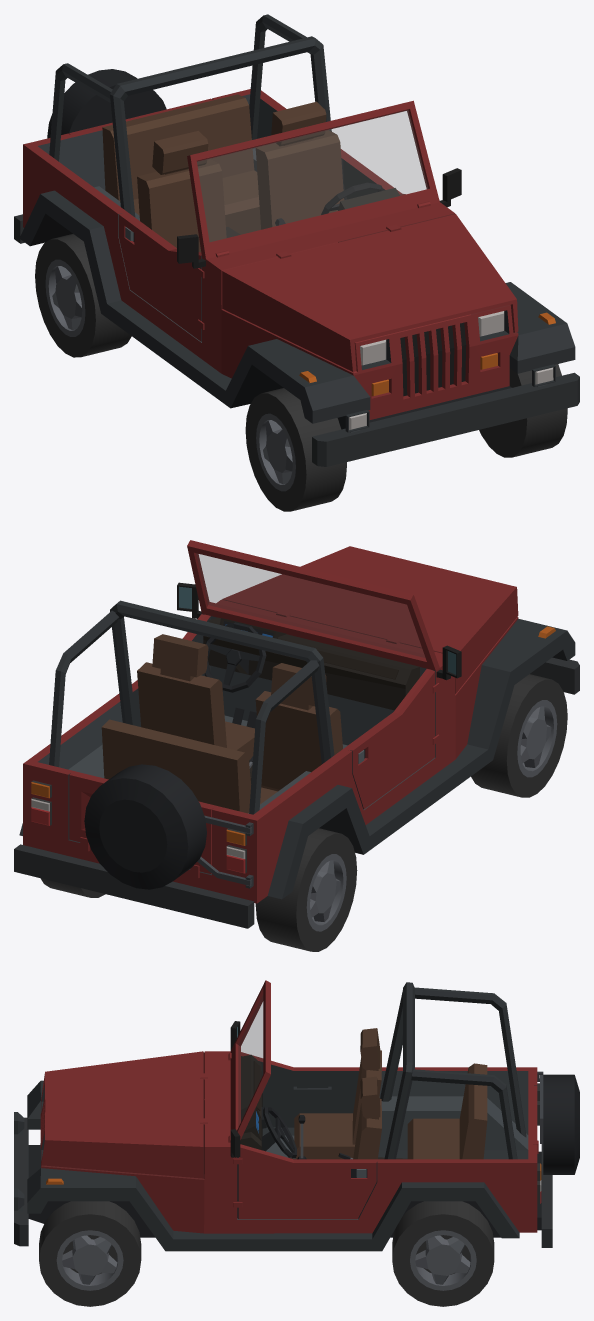
The model's file is jeep_type1.glb.
3 views of the same model, one above another, from view 1: azimuth 30°, elevation 25°; view 2: azimuth 150°, elevation 25°; view 3: azimuth 270°, elevation 25° (orthographic). The views are drawn at different scales.
Parts seen in each view (by area): view 1: car_body_type1, interior.001, window_front, wheel_FR, wheel_BR, door_type1_right, wheel_back, wheel_FL, door_back, door_type1_left; view 2: car_body_type1, interior.001, wheel_back, window_front, wheel_BR, wheel_FR, door_type1_right, door_back, door_type1_left; view 3: car_body_type1, interior.001, wheel_FL, wheel_BL, door_type1_left, door_type1_right, wheel_back, window_front, door_back.
Boxes of the visible parts, x1,y1,x2,y2 form: car_body_type1: [14, 14, 579, 466]; interior.001: [102, 94, 399, 252]; window_front: [197, 110, 427, 241]; wheel_FR: [245, 388, 346, 511]; wheel_BR: [35, 234, 131, 357]; door_type1_right: [119, 212, 201, 341]; wheel_back: [47, 69, 166, 138]; wheel_FL: [479, 364, 567, 457]; door_back: [69, 98, 213, 190]; door_type1_left: [343, 157, 405, 199]; car_body_type1: [14, 540, 579, 928]; interior.001: [101, 617, 419, 813]; wheel_back: [84, 764, 251, 889]; window_front: [196, 554, 424, 657]; wheel_BR: [255, 828, 357, 951]; wheel_FR: [471, 674, 567, 797]; door_type1_right: [343, 669, 435, 809]; door_back: [69, 771, 216, 873]; door_type1_left: [119, 614, 210, 726]; car_body_type1: [14, 980, 552, 1251]; interior.001: [240, 1028, 487, 1159]; wheel_FL: [39, 1201, 141, 1306]; wheel_BL: [392, 1201, 494, 1306]; door_type1_left: [237, 1144, 377, 1219]; door_type1_right: [241, 1052, 359, 1127]; wheel_back: [540, 1074, 579, 1174]; window_front: [238, 996, 262, 1126]; door_back: [528, 1085, 537, 1144].
Size of the model in its own units: 1.84 by 1.71 by 3.8.
Materials: 2 (2 with a texture image).
